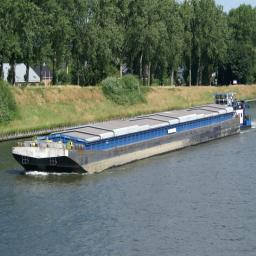tugboat: (207, 91, 254, 144)
